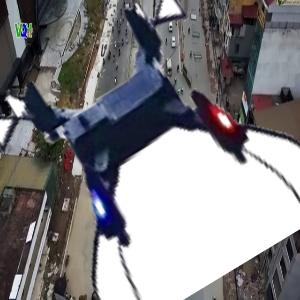drone: (4, 6, 296, 298)
